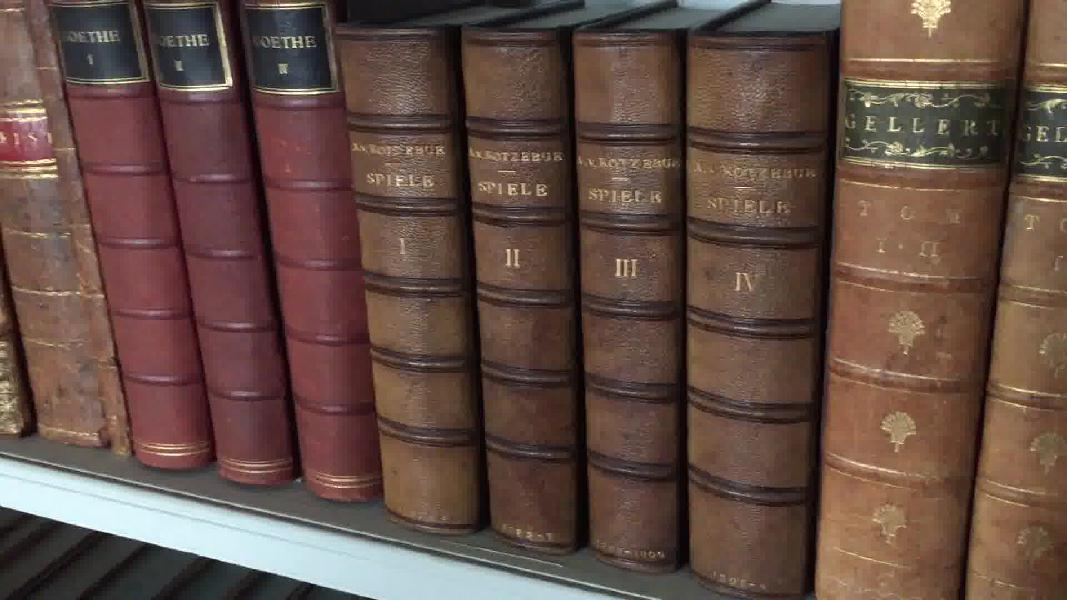Aa6-10: (24, 2, 132, 451)
Aa6-11_13: (48, 4, 381, 524)
Aa6-14_17: (335, 15, 828, 600)
